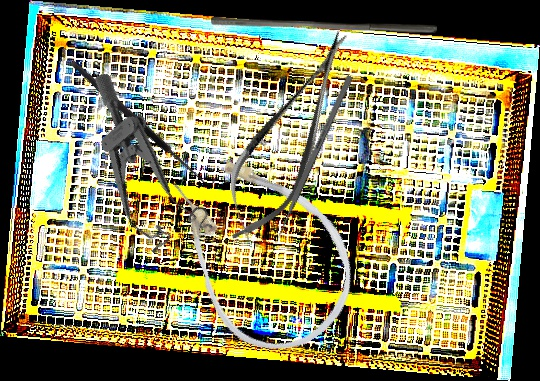Cannula: (140, 120, 382, 377)
Hook Surgical: (69, 52, 219, 191)
Micro Scissor: (202, 16, 378, 257)
Pusher: (271, 74, 354, 247), (211, 16, 437, 33)
Speculum: (43, 70, 227, 268)
